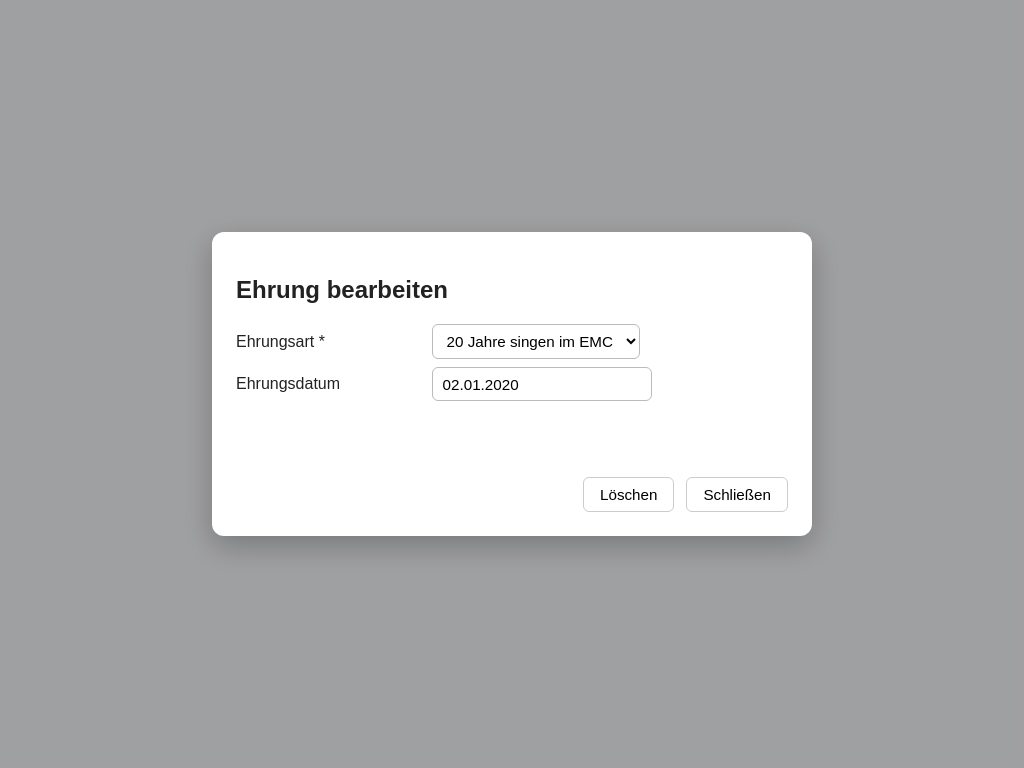
Scenario: MemberHonorEditDialog – AutoSave und Schließen › zeigt bei einem fehlgeschlagenen Speichern die Verwerfen-Bestätigung
Replace the text in the field labelled "Ehrungsdatum" with "13.03.2026" at (542, 384), box top-left (432, 367), bottom-right (652, 401)
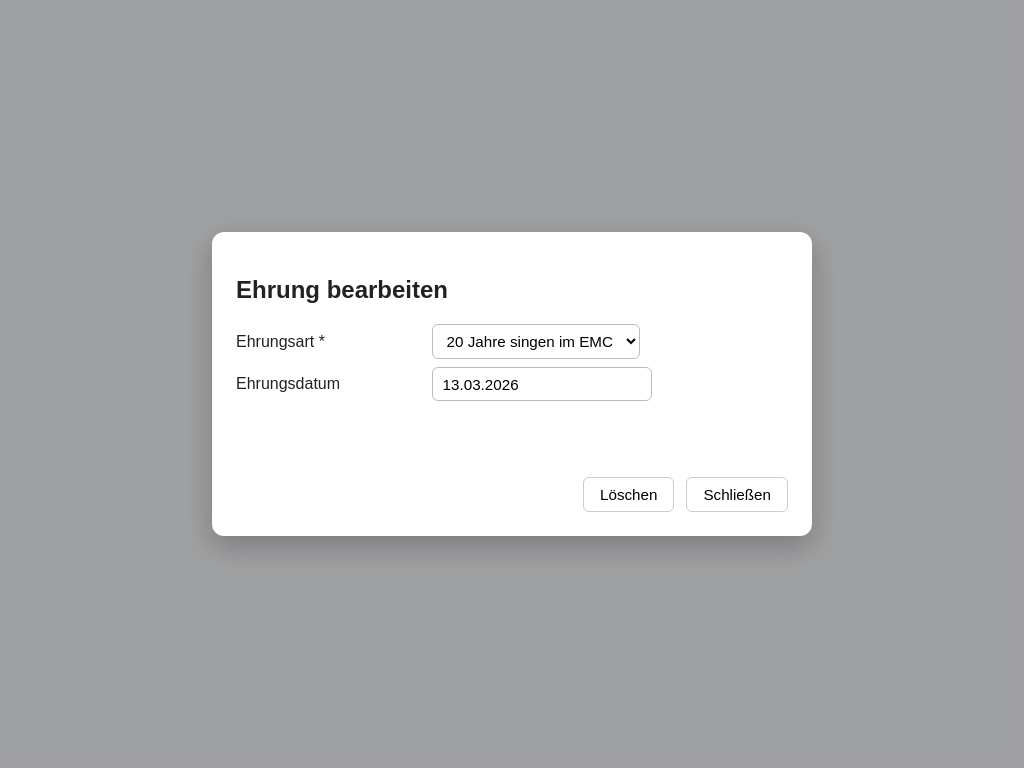
Click the button "Schließen".
click(737, 494)  # box top-left (686, 477), bottom-right (788, 512)
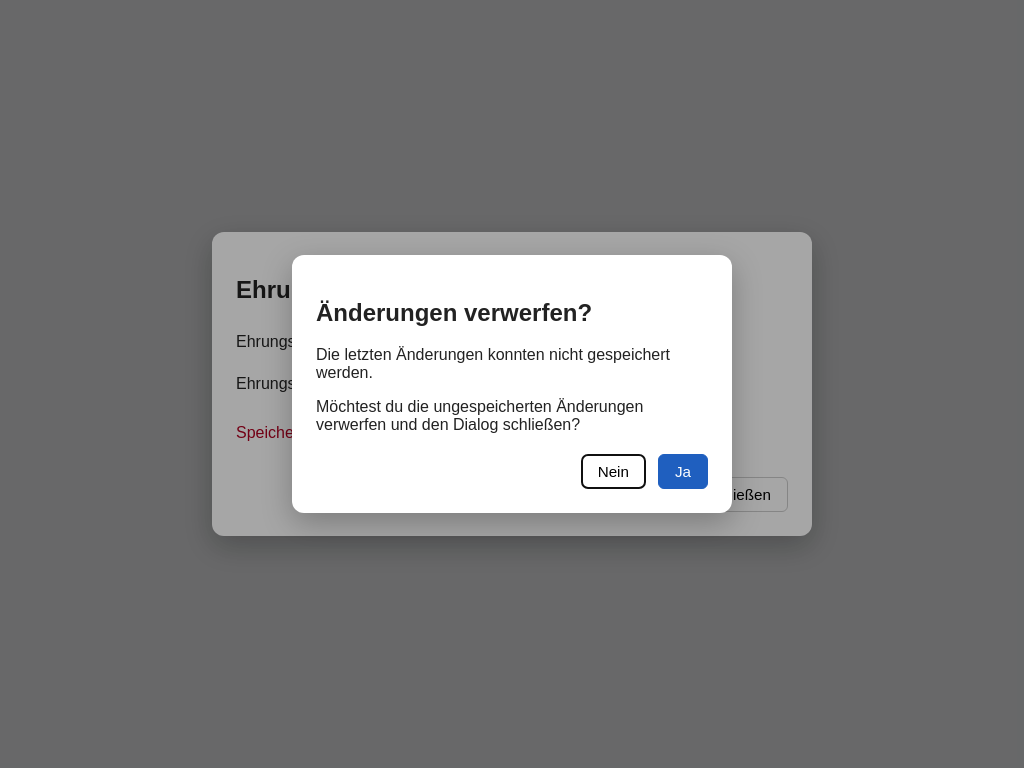
Expected: the dialog "Änderungen verwerfen?" is shown, top-left (292, 255), bottom-right (732, 513)
